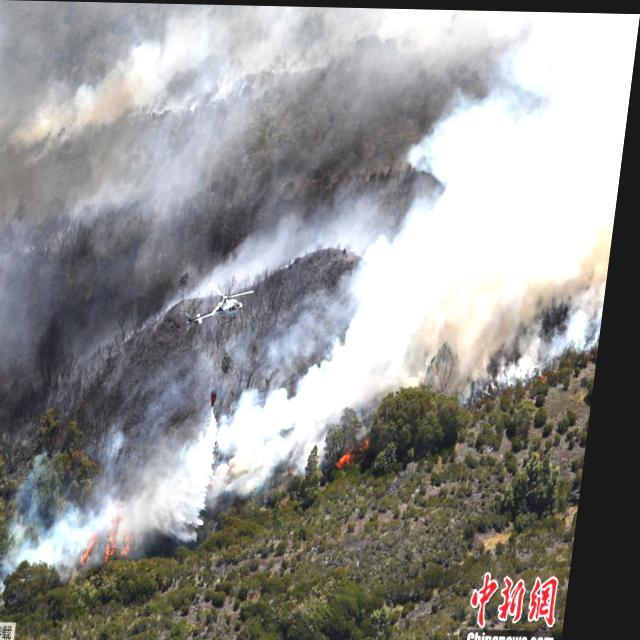Fire: (92, 506, 156, 566), (348, 426, 386, 466)
